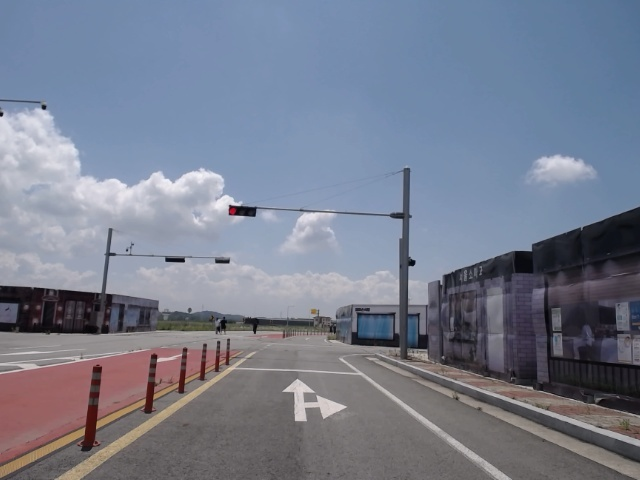red_3: (228, 203, 258, 218)
